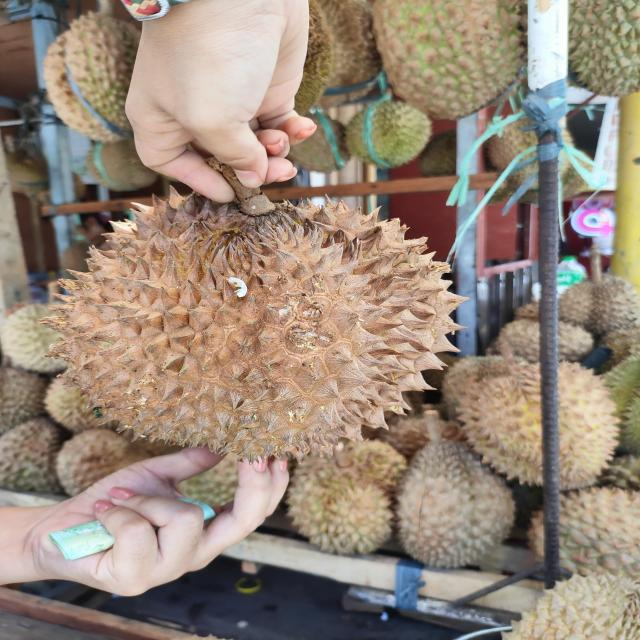mature: (49, 203, 467, 468)
